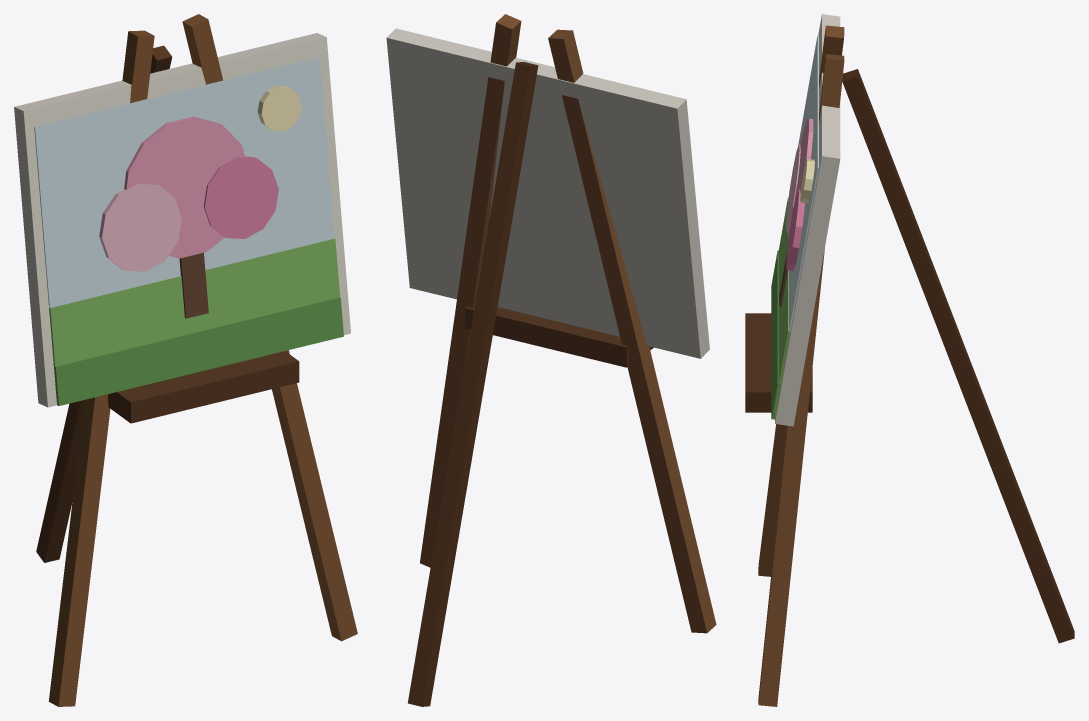
The model's file is c-easel-blossom.glb.
3 views of the same model, side by side, from view 1: azimuth 30°, elevation 25°; view 2: azimuth 150°, elevation 25°; view 3: azimuth 270°, elevation 25° (orthographic). The views are drawn at different scales.
Visible parts, largest first — view 1: c-easel-blossom; view 2: c-easel-blossom; view 3: c-easel-blossom.
Part boxes in pixels (x1,y1,x2,y2): c-easel-blossom: [14, 14, 357, 706]; c-easel-blossom: [386, 14, 716, 706]; c-easel-blossom: [745, 14, 1074, 706].
Bounding box in the file's own units: 0.45 × 0.8823 × 0.4406.
